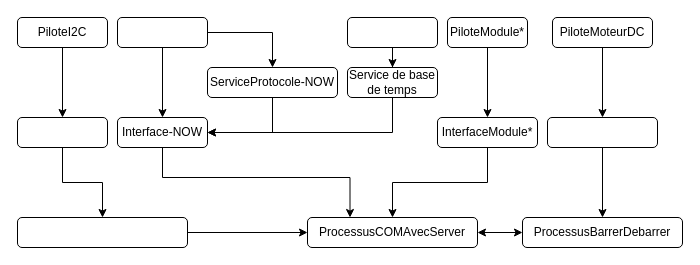
Image size: 700x265. Some labels were removed from this diagram. The shapes that lost their labels are listed below. From the top down, each one's box as (x1, y1, x2, y2) in pixels, then its label:
(116, 16, 208, 48): Pilote-NOW
(346, 16, 438, 48): piloteTimer
(16, 116, 108, 148): InterfaceI2C
(546, 116, 658, 148): InterfaceMoteurDC
(16, 216, 188, 248): ProcessusLectureNFC
